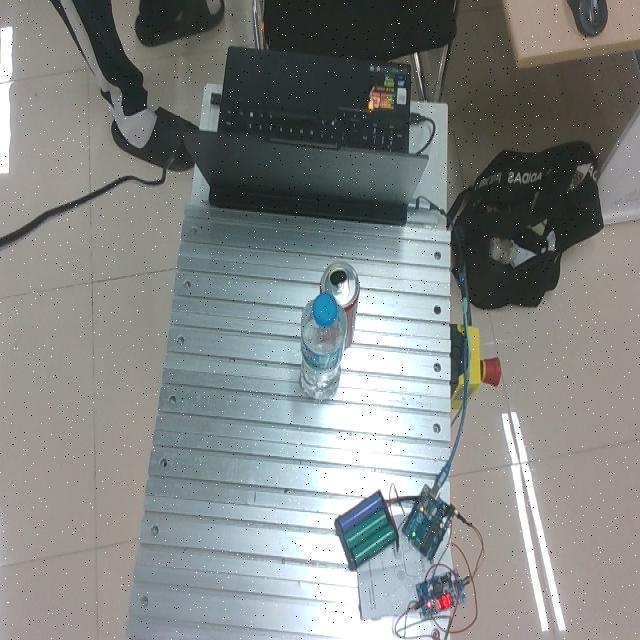coca: (320, 260, 361, 353)
lavie: (299, 291, 348, 400)
